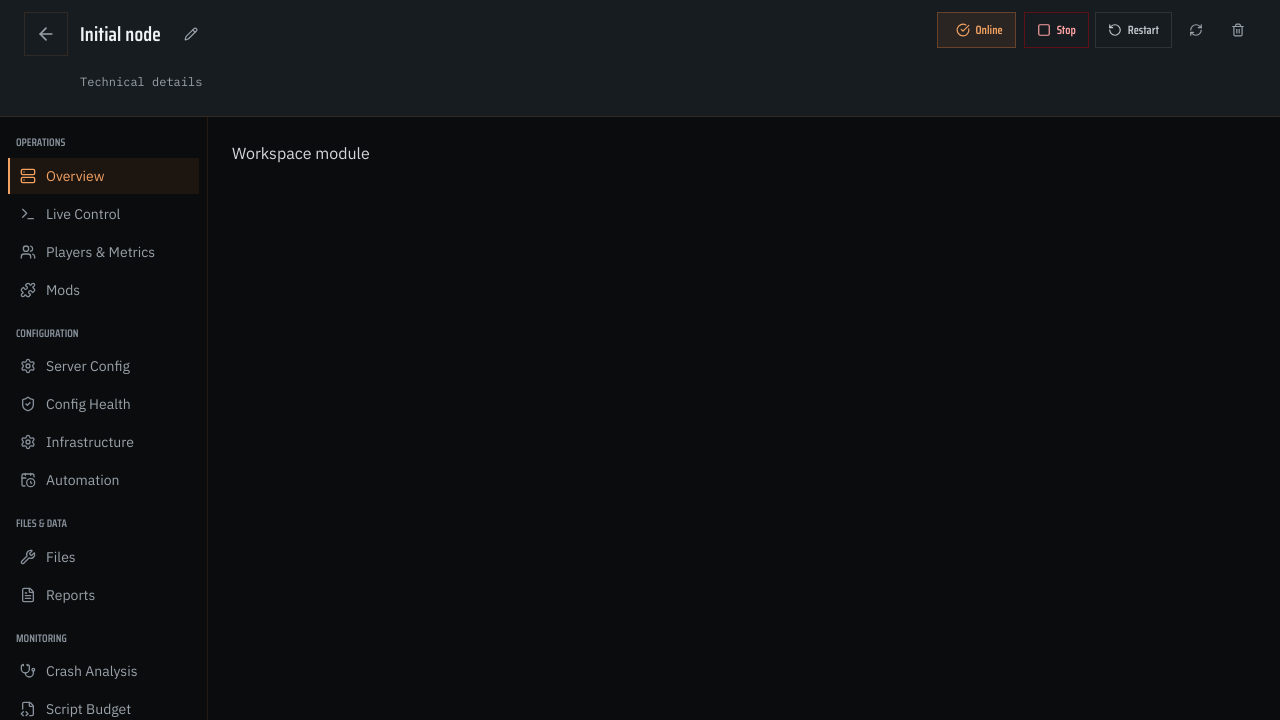
Test: server workspace request ordering › keeps an action refresh ahead of an older manual refresh
Expected: the heading "Initial node" is shown, [80, 22, 161, 46]
Step 1. Click the button named "refresh server" → point(1196, 30), box [1178, 12, 1214, 48]
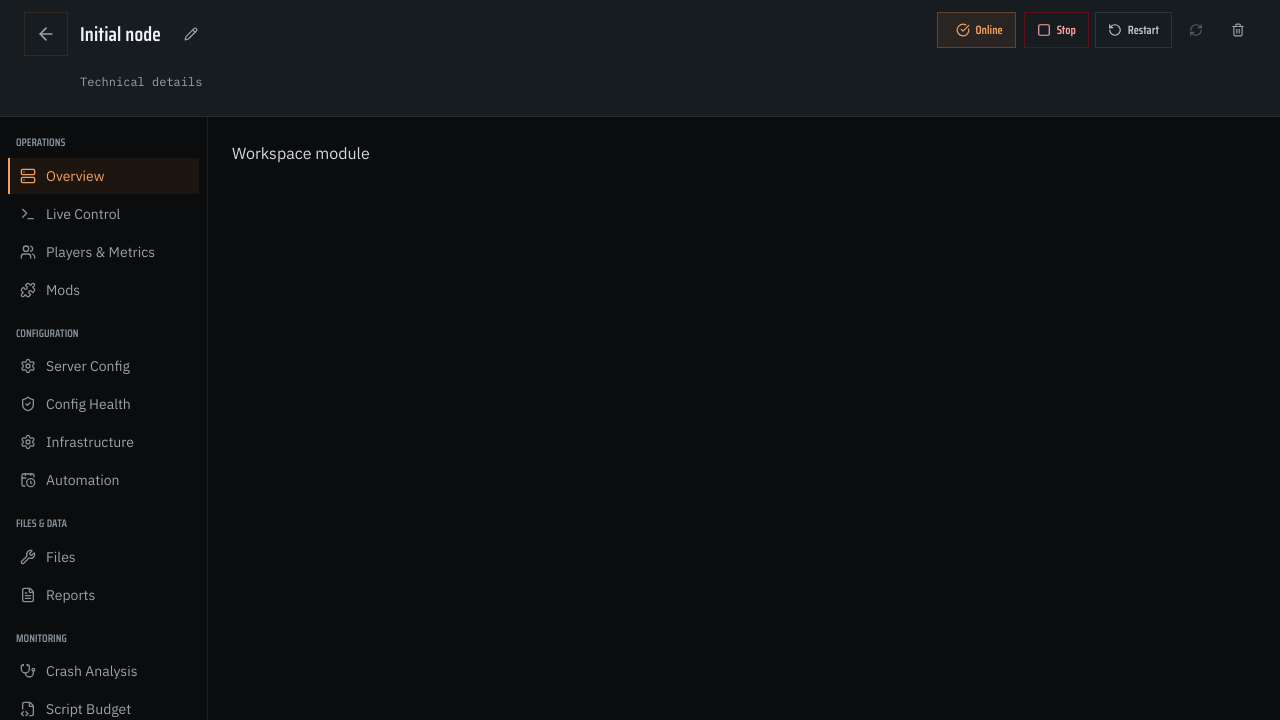
Step 2. Click the button with aria-label "stop server" → point(1056, 30), box [1024, 12, 1089, 48]
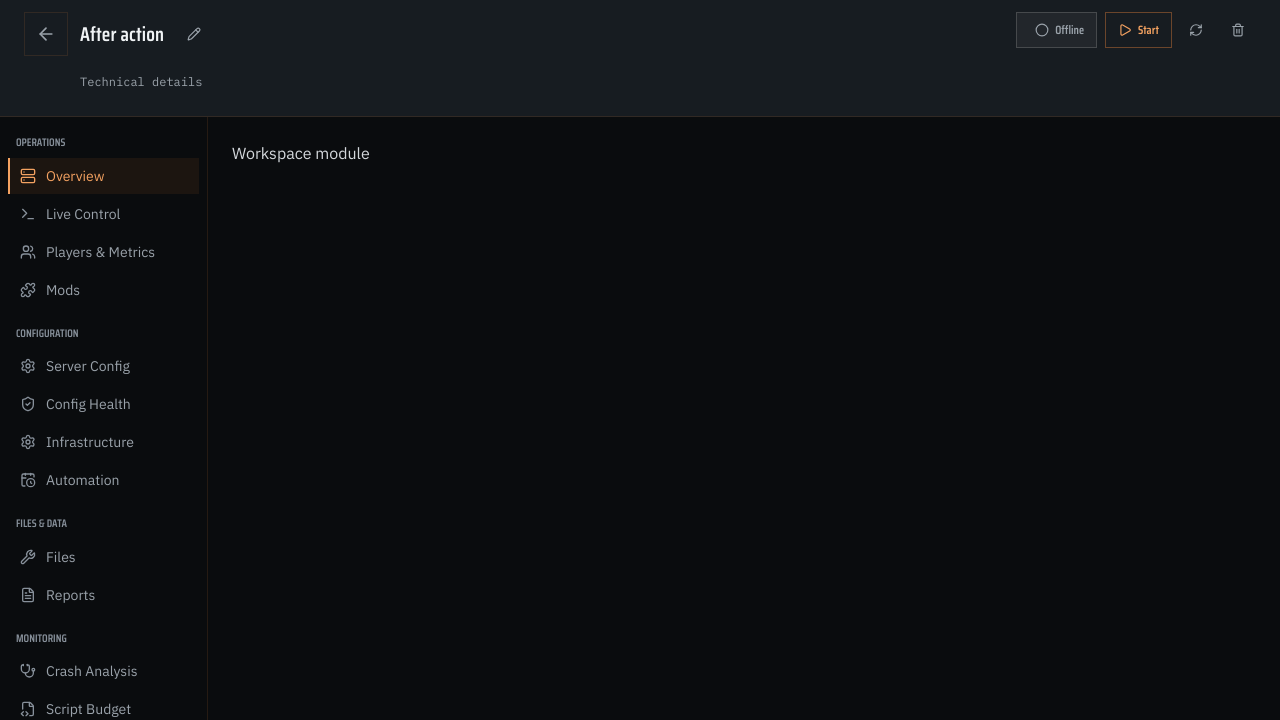
Expected: the heading "After action" is shown, [80, 22, 164, 46]
